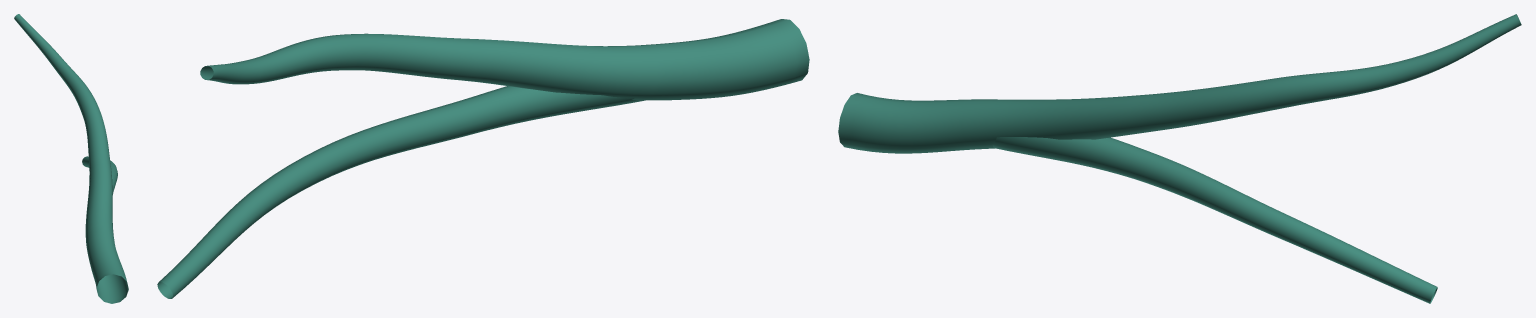
3 renders of one model, left to right at view 1: azimuth 30°, elevation 25°; view 2: azimuth 150°, elevation 25°; view 3: azimuth 270°, elevation 25°, orthographic. The views are drawn at different scales.
Parts seen in each view (by area): view 1: 左肺外侧底段支气管（第9段）; view 2: 左肺外侧底段支气管（第9段）; view 3: 左肺外侧底段支气管（第9段）.
Boxes of the visible parts, bbox=[...] form: 左肺外侧底段支气管（第9段）: bbox=[14, 14, 128, 303]; 左肺外侧底段支气管（第9段）: bbox=[157, 19, 809, 298]; 左肺外侧底段支气管（第9段）: bbox=[838, 14, 1521, 303].
Size of the model in its own units: 0.0759 by 0.0656 by 0.1621.
